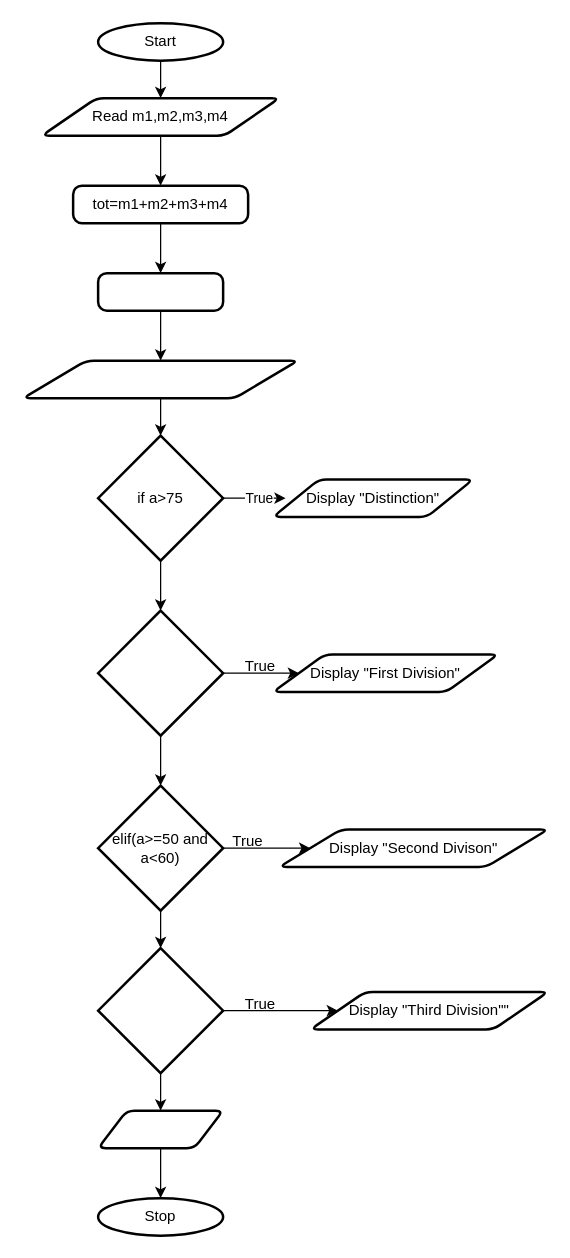
This 570x1258 diagram has some shape labels left out. The shapes that lost their labels are listed below. From the top down, each one's centre as x and y in pixels, then its label:
(x=160, y=291): a=tot/4
(x=160, y=379): Display "Average Marks"
(x=160, y=672): elif (a>=60 and a<75)
(x=160, y=1010): elif(a>=40 and a<50)
(x=160, y=1129): Display "Fail"
